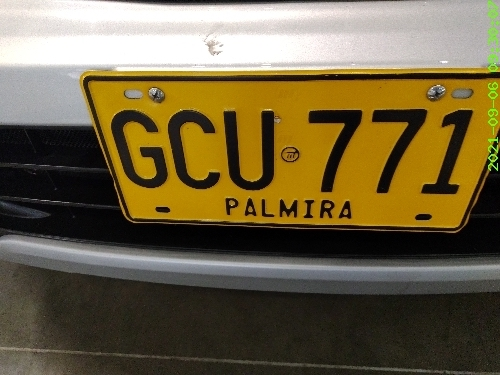number_plate: (86, 73, 499, 231)
